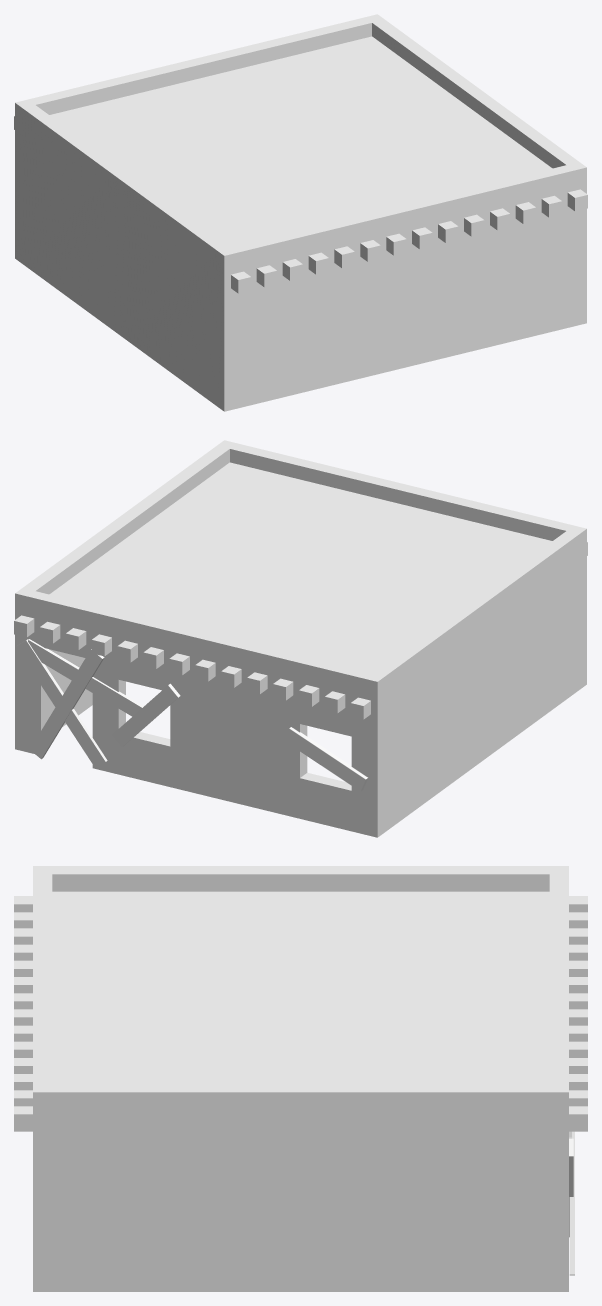
Rendered from pueblo-l.fbx.
The picture shows the model from 3 angles, top to bottom: view 1: azimuth 30°, elevation 25°; view 2: azimuth 150°, elevation 25°; view 3: azimuth 270°, elevation 25°; orthographic projection. The views are drawn at different scales.
Parts seen in each view (by area): view 1: Plane; view 2: Plane; view 3: Plane.
Part boxes in pixels (left/top/right/bottom): Plane: left=14, top=14, right=587, bottom=411; Plane: left=14, top=440, right=587, bottom=837; Plane: left=14, top=866, right=587, bottom=1291.
Bounding box in the file's own units: 28 × 11.6 × 30.
